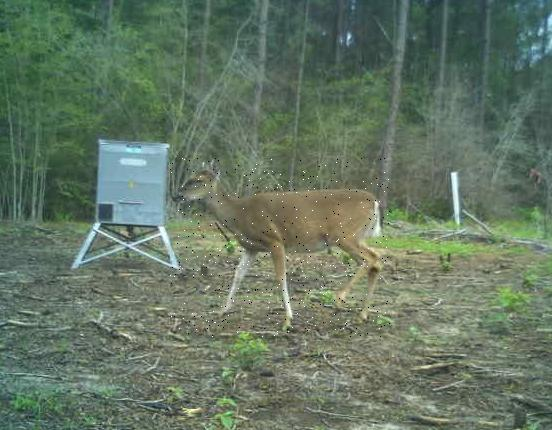Deer: (171, 159, 391, 338)
